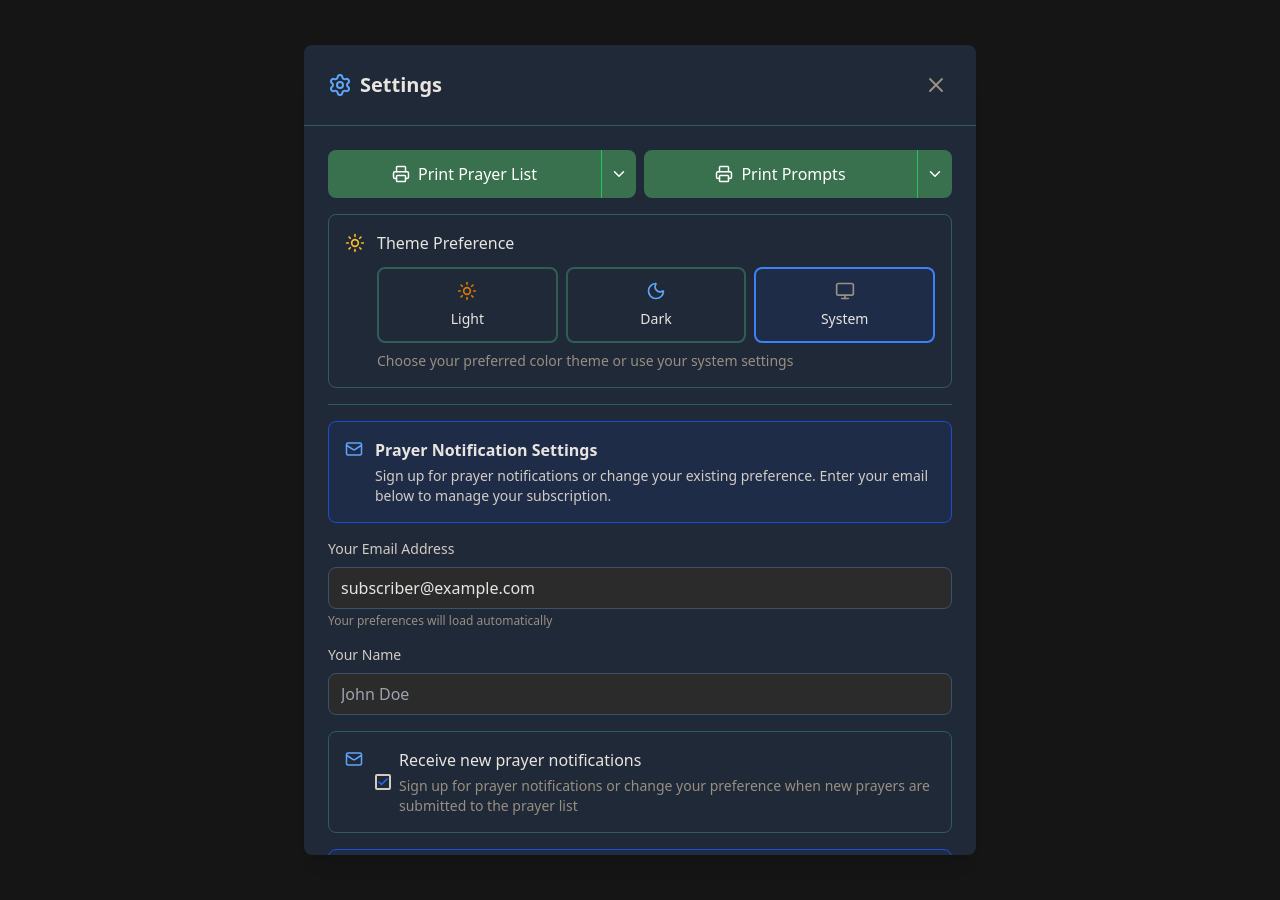
it: UserSettings › Save Preferences › displays error when save fails
Type "test@example.com" into the field with placeholder "your.email@example.com" at (640, 588), box [328, 567, 952, 609]
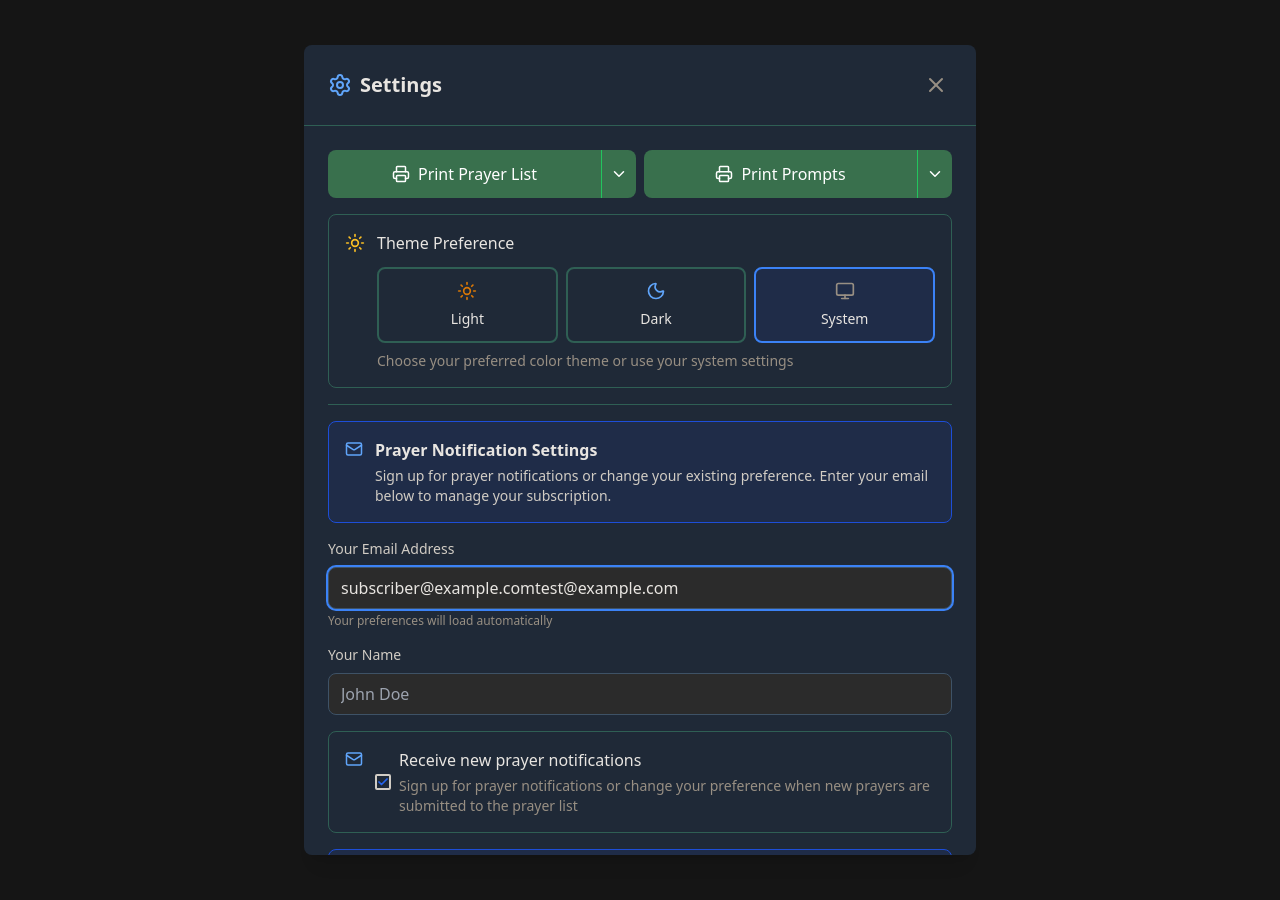
Type "Test User" into the field with placeholder "John Doe" at (640, 694), box [328, 673, 952, 715]
(page scrolled)
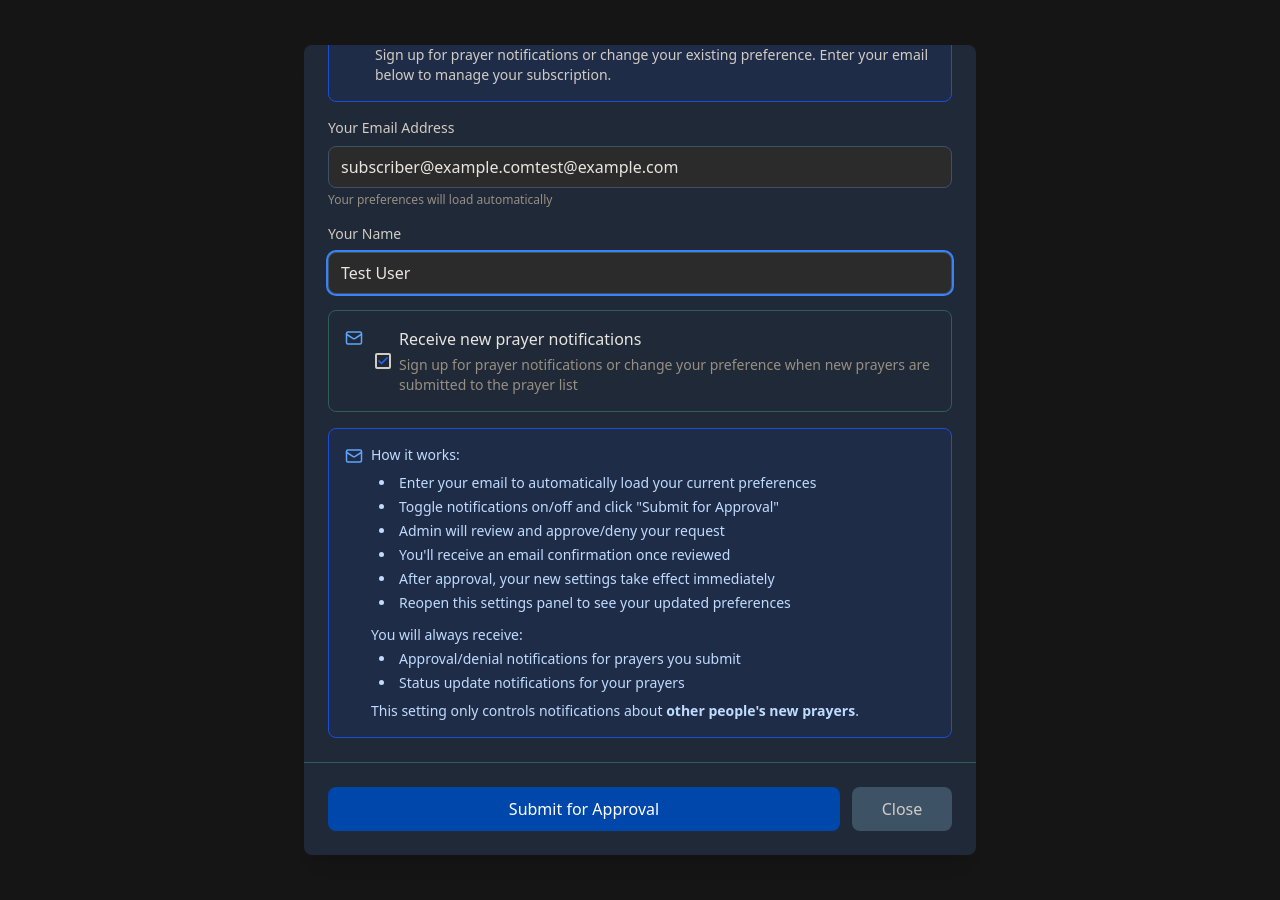
Click the button "Submit for Approval" at (584, 809), box [328, 787, 840, 831]
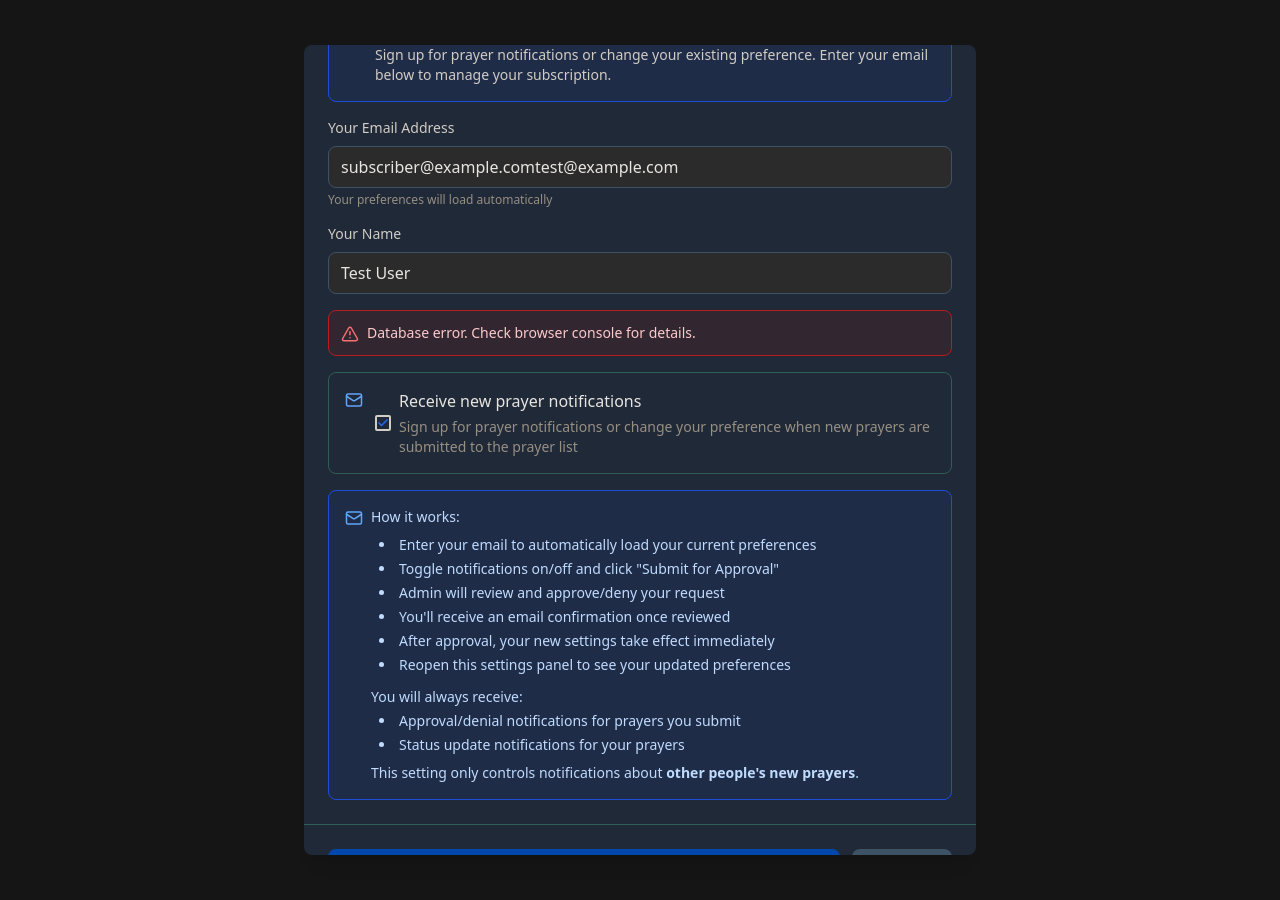
Now the text "Database error. Check browser console for details." is shown, box [367, 323, 696, 343]
